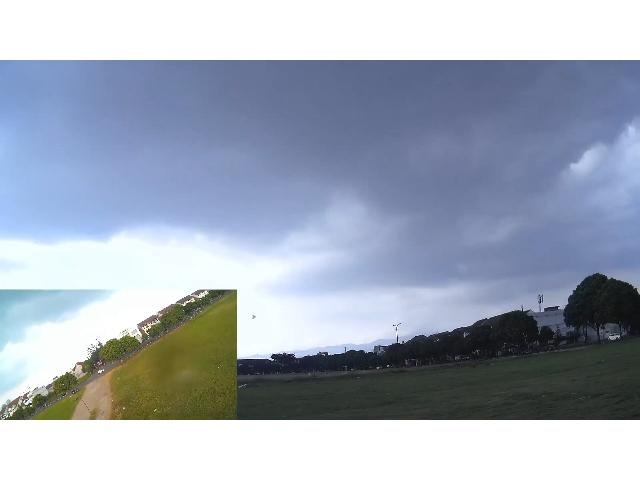Anti-Drone: (250, 313, 260, 323)
